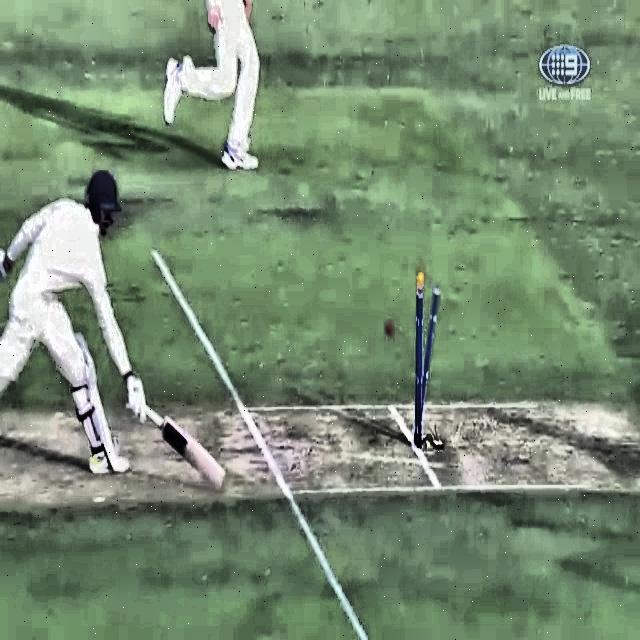Ball: (373, 319, 401, 341)
Bat: (125, 389, 233, 492)
Dis_Wicket: (409, 269, 440, 451)
Pitch_Line: (150, 245, 367, 640)
